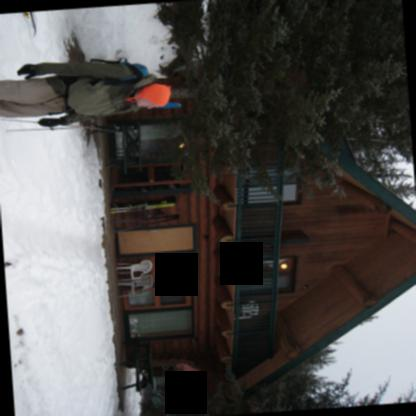backpack: (90, 58, 148, 78)
